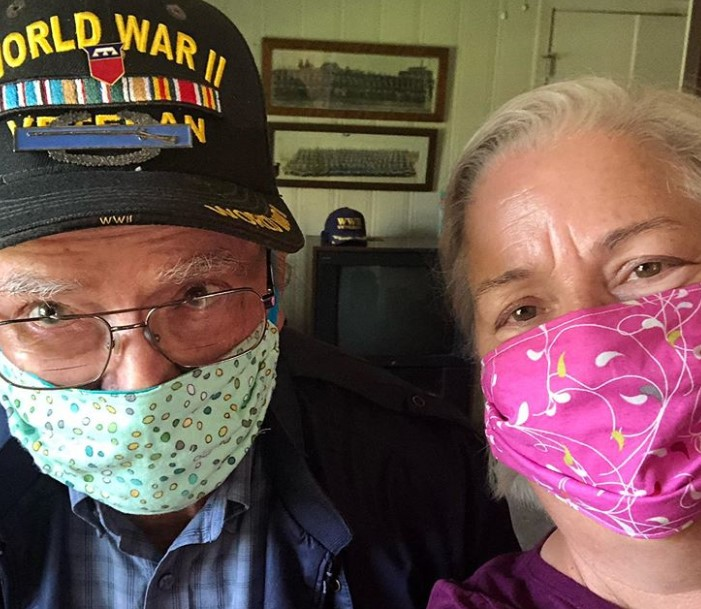face_with_mask: (442, 85, 701, 558), (6, 169, 300, 526)
